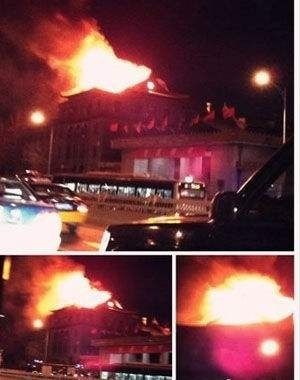fire: (56, 25, 149, 95), (193, 272, 292, 327), (33, 265, 115, 316)
